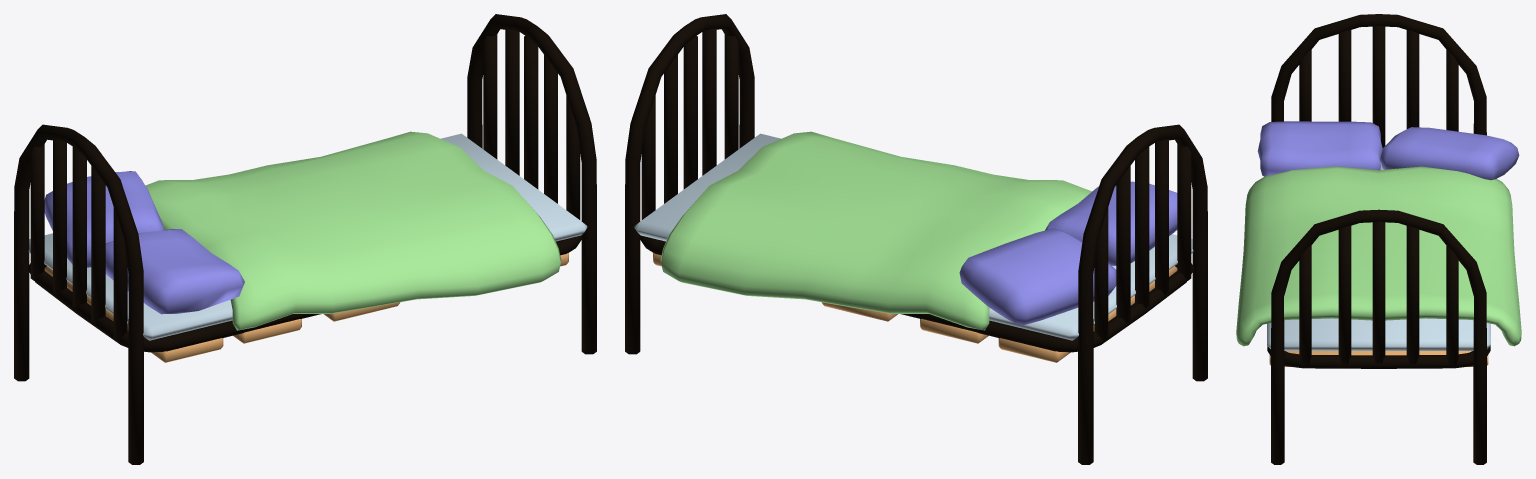
File: sanky_patjalla.fbx
3 renders of one model, left to right at view 1: azimuth 30°, elevation 25°; view 2: azimuth 150°, elevation 25°; view 3: azimuth 270°, elevation 25°, orthographic. The views are drawn at different scales.
Parts seen in each view (by area): view 1: peitto, sanky, tyyny2, patja, tyyny, laudat; view 2: peitto, sanky, tyyny, patja, tyyny2, laudat; view 3: peitto, sanky, tyyny2, tyyny, patja, laudat.
Boxes of the visible parts, <box> form: peitto: <box>145,131,561,330</box>; sanky: <box>14,14,596,464</box>; tyyny2: <box>105,229,244,314</box>; patja: <box>28,133,587,340</box>; tyyny: <box>44,171,164,267</box>; laudat: <box>44,253,568,362</box>; peitto: <box>660,131,1091,330</box>; sanky: <box>625,14,1207,464</box>; tyyny: <box>959,228,1116,325</box>; patja: <box>634,133,1193,340</box>; tyyny2: <box>1045,181,1177,265</box>; laudat: <box>653,253,1177,362</box>; peitto: <box>1236,166,1521,346</box>; sanky: <box>1267,14,1490,464</box>; tyyny2: <box>1257,121,1382,176</box>; tyyny: <box>1380,127,1519,180</box>; patja: <box>1267,162,1490,350</box>; laudat: <box>1269,351,1488,366</box>.
Size of the model in its own units: 6972 by 4092 by 4190.
